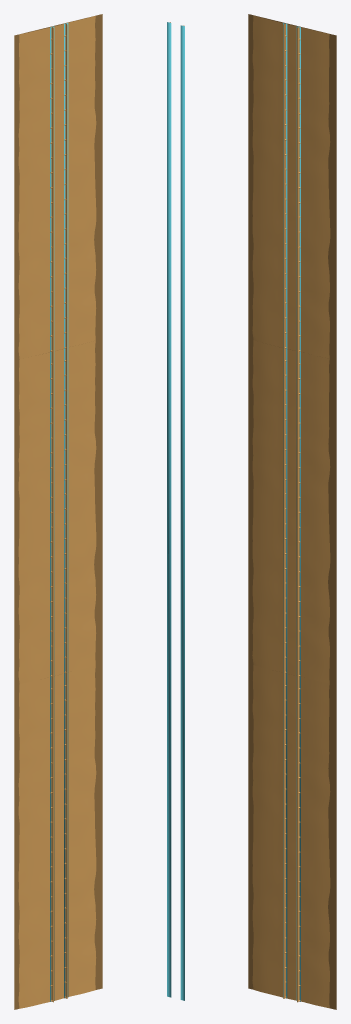
File: floorsmall.glb
The picture shows the model from 3 angles, left to right: view 1: azimuth 30°, elevation 25°; view 2: azimuth 150°, elevation 25°; view 3: azimuth 330°, elevation 25°; orthographic projection.
Visible parts, largest first — view 1: flo01, flo09, flo08, flo, flo02, flo03, flo04, flo06; view 2: flo02; view 3: flo09, flo08, flo01, flo, flo02, flo04, flo03, flo06.
Part boxes in pixels (bbox=[...]): flo01: bbox=[18, 665, 96, 1008]; flo09: bbox=[18, 16, 96, 358]; flo08: bbox=[18, 340, 96, 683]; flo: bbox=[14, 14, 102, 1009]; flo02: bbox=[50, 23, 68, 1001]; flo03: bbox=[51, 673, 67, 1002]; flo04: bbox=[51, 23, 67, 352]; flo06: bbox=[51, 348, 67, 677]; flo02: bbox=[167, 22, 184, 1000]; flo09: bbox=[252, 15, 330, 358]; flo08: bbox=[252, 340, 330, 683]; flo01: bbox=[252, 665, 330, 1008]; flo: bbox=[248, 14, 336, 1009]; flo02: bbox=[283, 23, 300, 1001]; flo04: bbox=[283, 23, 299, 352]; flo03: bbox=[283, 673, 299, 1002]; flo06: bbox=[283, 348, 299, 677].
Size of the model in its own units: 6.5e-06 by 6.88e-05 by 2.5e-07.
